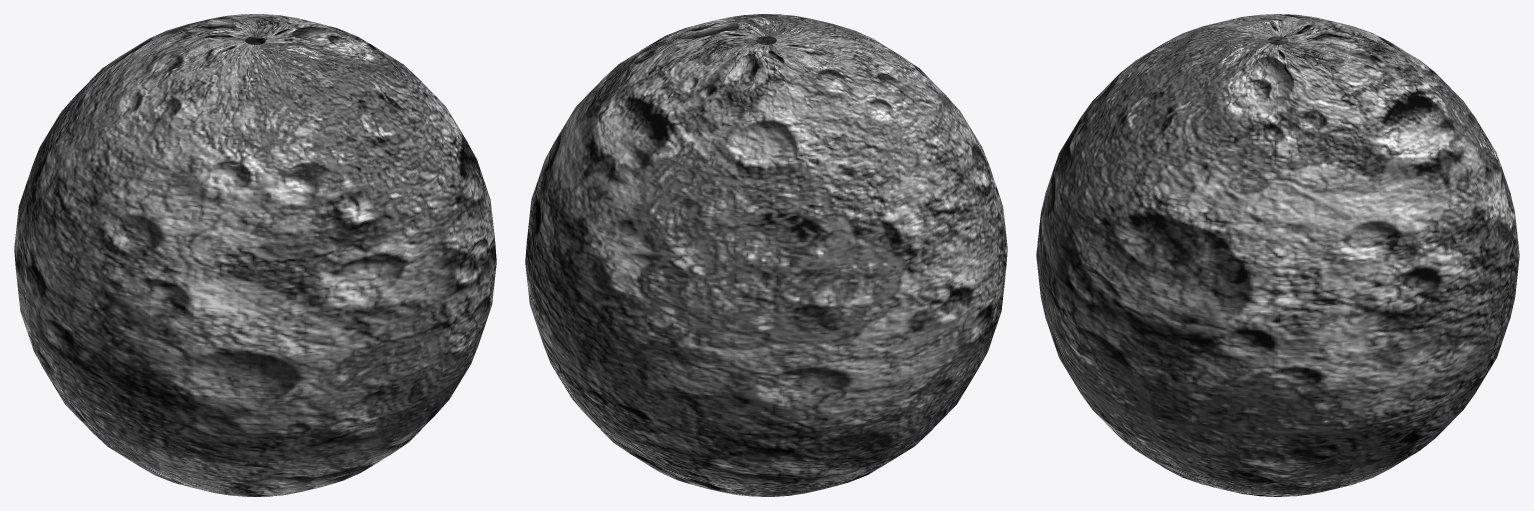
Rendered from moon.obj.
The picture shows the model from 3 angles, left to right: view 1: azimuth 30°, elevation 25°; view 2: azimuth 150°, elevation 25°; view 3: azimuth 270°, elevation 25°; orthographic projection.
Visible parts, largest first — view 1: Sphere; view 2: Sphere; view 3: Sphere.
Part boxes in pixels (x1,y1,x2,y2): Sphere: (14, 14, 496, 496); Sphere: (525, 14, 1007, 496); Sphere: (1036, 14, 1519, 496).
Bounding box in the file's own units: 2 × 1.96 × 2.
Materials: 1 (1 with a texture image).
